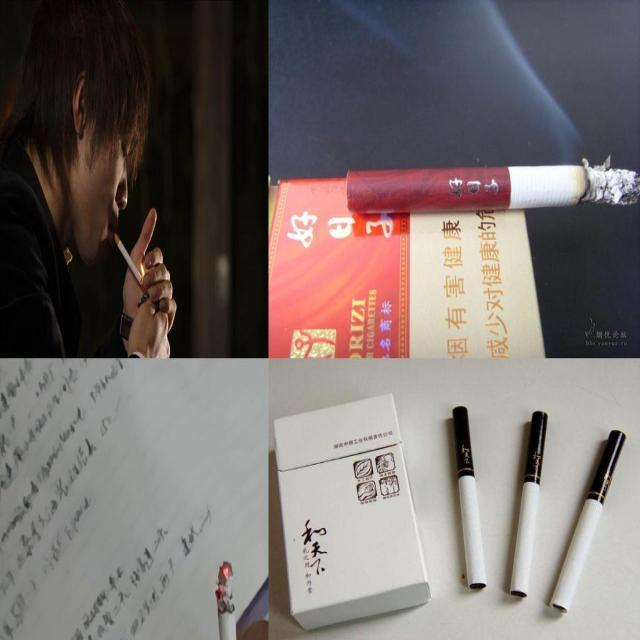smoking: (346, 165, 640, 214), (550, 430, 627, 614), (509, 411, 549, 598), (452, 406, 488, 590), (216, 560, 240, 639), (112, 232, 144, 286)
